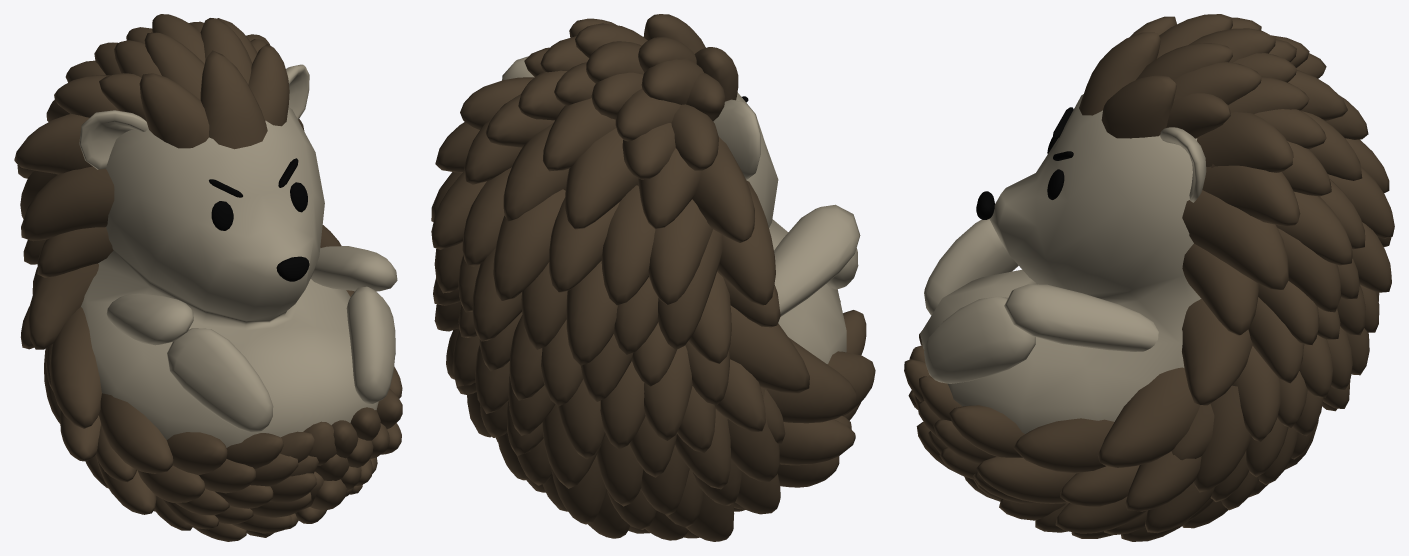
File: hedgehog_V01_RforGame.fbx
3 renders of one model, left to right at view 1: azimuth 30°, elevation 25°; view 2: azimuth 150°, elevation 25°; view 3: azimuth 270°, elevation 25°, orthographic. The views are drawn at different scales.
Visible parts, largest first — view 1: body1, feet1, arms1, pCube93, pCube2, pCube113, pCube151, pCube114, pCube99, ears4, pCube92, pCube98 (+38 smaller); view 2: arms1, body1, pCube97, pCube20, pCube102, pCube99, pCube95, pCube92, pCube93, pCube104, pCube113, pCube100 (+71 smaller); view 3: body1, feet1, arms1, pCube33, pCube12, pCube19, pCube9, pCube11, pCube18, pCube34, pCube152, pCube45 (+48 smaller).
Boxes of the visible parts, x1=… form: body1: x1=81, y1=107, x2=378, y2=447; feet1: x1=167, y1=286, x2=395, y2=432; arms1: x1=106, y1=246, x2=397, y2=345; pCube93: x1=21, y1=166, x2=114, y2=241; pCube2: x1=200, y1=50, x2=267, y2=149; pCube113: x1=49, y1=307, x2=101, y2=428; pCube151: x1=139, y1=73, x2=209, y2=148; pCube114: x1=98, y1=393, x2=173, y2=473; pCube99: x1=28, y1=263, x2=98, y2=349; ears4: x1=79, y1=64, x2=309, y2=169; pCube92: x1=14, y1=114, x2=92, y2=174; pCube98: x1=37, y1=227, x2=113, y2=277; arms1: x1=774, y1=204, x2=860, y2=316; body1: x1=736, y1=92, x2=846, y2=363; pCube97: x1=565, y1=128, x2=638, y2=229; pCube20: x1=493, y1=189, x2=565, y2=300; pCube102: x1=601, y1=185, x2=655, y2=305; pCube99: x1=729, y1=305, x2=809, y2=393; pCube95: x1=648, y1=199, x2=712, y2=304; pCube92: x1=692, y1=137, x2=754, y2=242; pCube93: x1=717, y1=180, x2=775, y2=305; pCube104: x1=566, y1=261, x2=617, y2=365; pCube113: x1=767, y1=337, x2=856, y2=423; pCube100: x1=549, y1=197, x2=619, y2=292; body1: x1=920, y1=94, x2=1201, y2=433; feet1: x1=924, y1=219, x2=1035, y2=383; arms1: x1=1004, y1=284, x2=1158, y2=351; pCube33: x1=1097, y1=367, x2=1200, y2=467; pCube12: x1=1182, y1=190, x2=1288, y2=289; pCube19: x1=1182, y1=299, x2=1252, y2=405; pCube9: x1=1197, y1=112, x2=1293, y2=172; pCube11: x1=1202, y1=165, x2=1300, y2=225; pCube18: x1=1182, y1=243, x2=1258, y2=335; pCube34: x1=1013, y1=418, x2=1114, y2=473; pCube152: x1=1101, y1=75, x2=1176, y2=138; pCube45: x1=1194, y1=385, x2=1251, y2=492.
Size of the model in its own units: 131 by 180 by 161.
